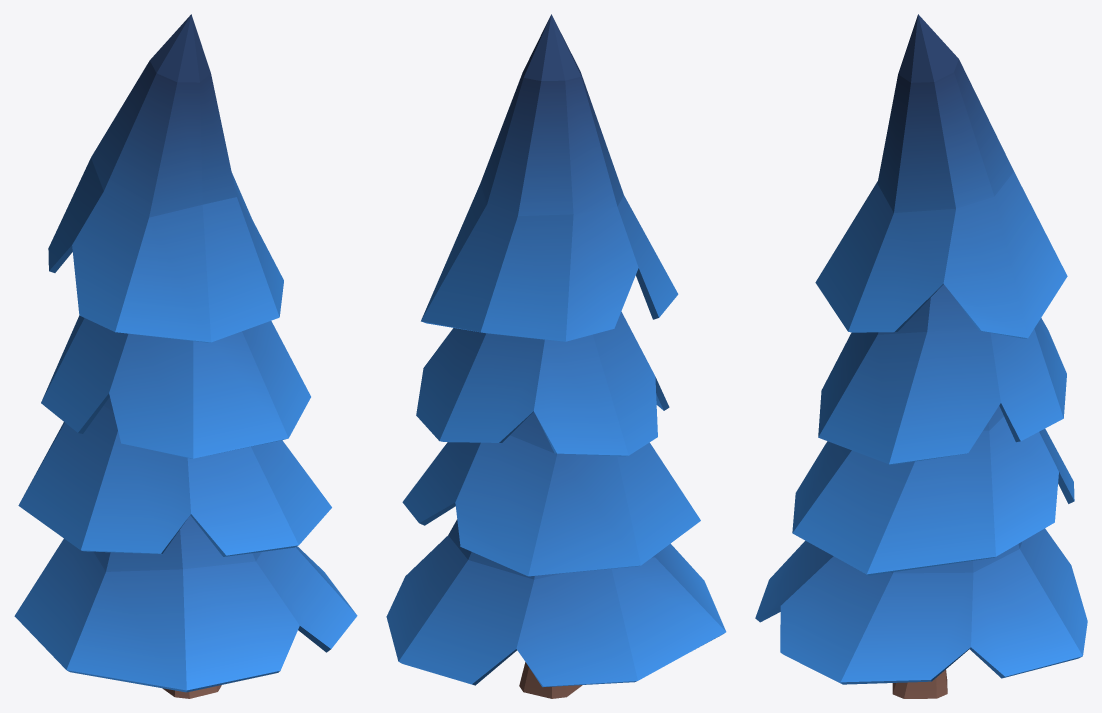
The model's file is BluePine6.fbx.
The picture shows the model from 3 angles, left to right: view 1: azimuth 30°, elevation 25°; view 2: azimuth 150°, elevation 25°; view 3: azimuth 270°, elevation 25°; orthographic projection.
Parts seen in each view (by area): view 1: BluePine6; view 2: BluePine6; view 3: BluePine6.
Boxes of the visible parts, x1=… form: BluePine6: x1=14, y1=14, x2=357, y2=698; BluePine6: x1=386, y1=14, x2=726, y2=698; BluePine6: x1=755, y1=14, x2=1087, y2=698.
Size of the model in its own units: 499 by 1107 by 495.
